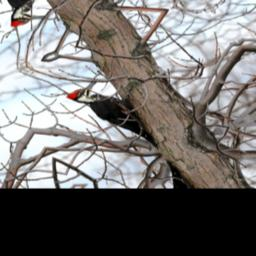Woodpecker: (62, 73, 169, 167)
